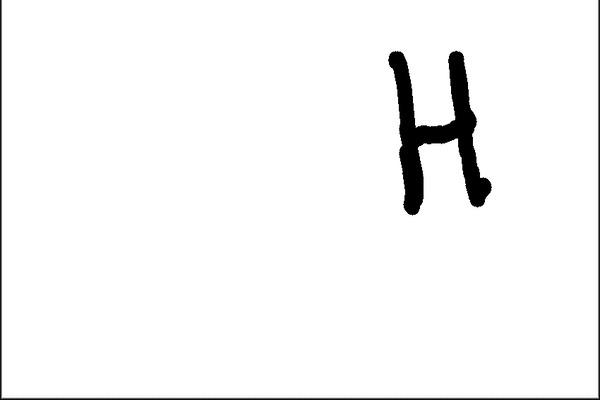H: (383, 45, 492, 214)
